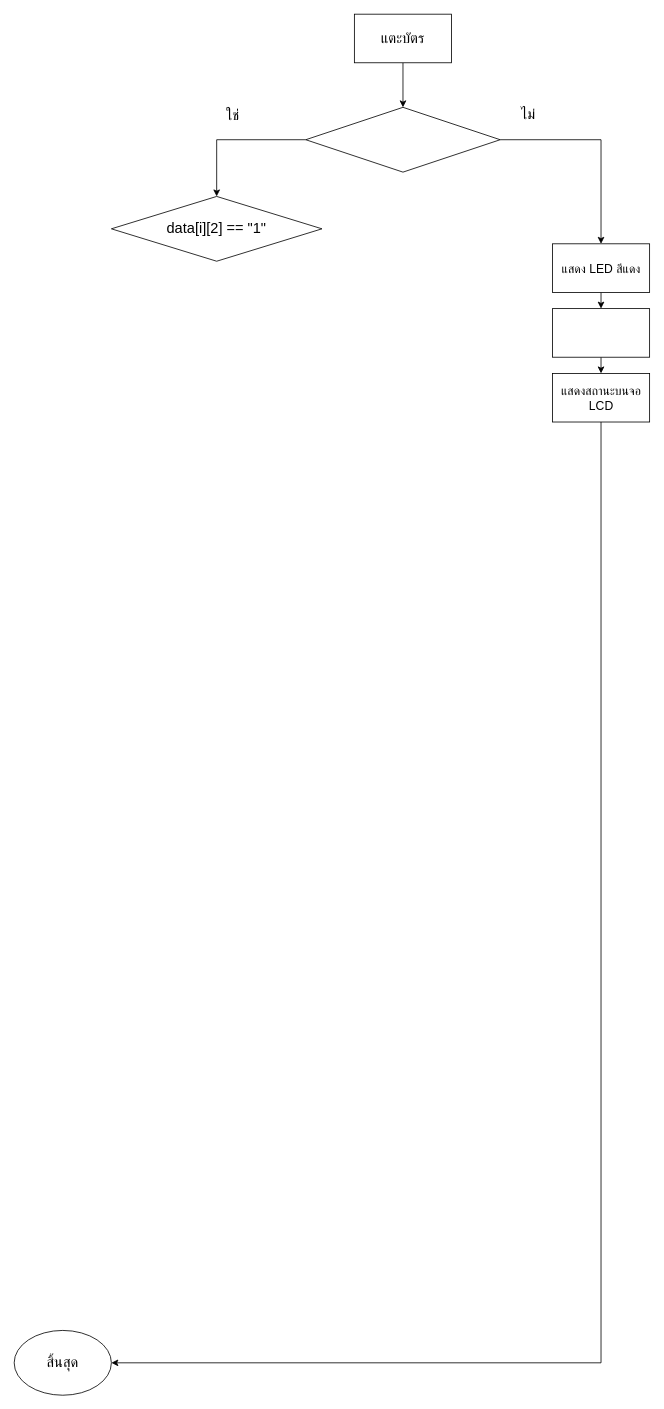
This 664x1409 diagram has some shape labels left out. The centre of each missing label's shape, as x and y in pixels:
"ถ้าบัตรเป็นบัตรนักศึกษา" belongs at (402,139).
"เสียง Buzzer เตือน" belongs at (601,332).
